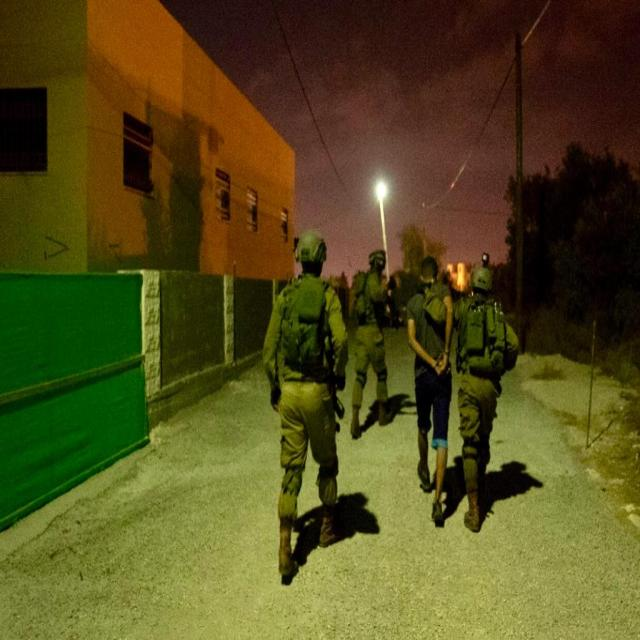Militant: (256, 220, 366, 592), (398, 238, 466, 532), (452, 259, 520, 532), (348, 234, 406, 461)
